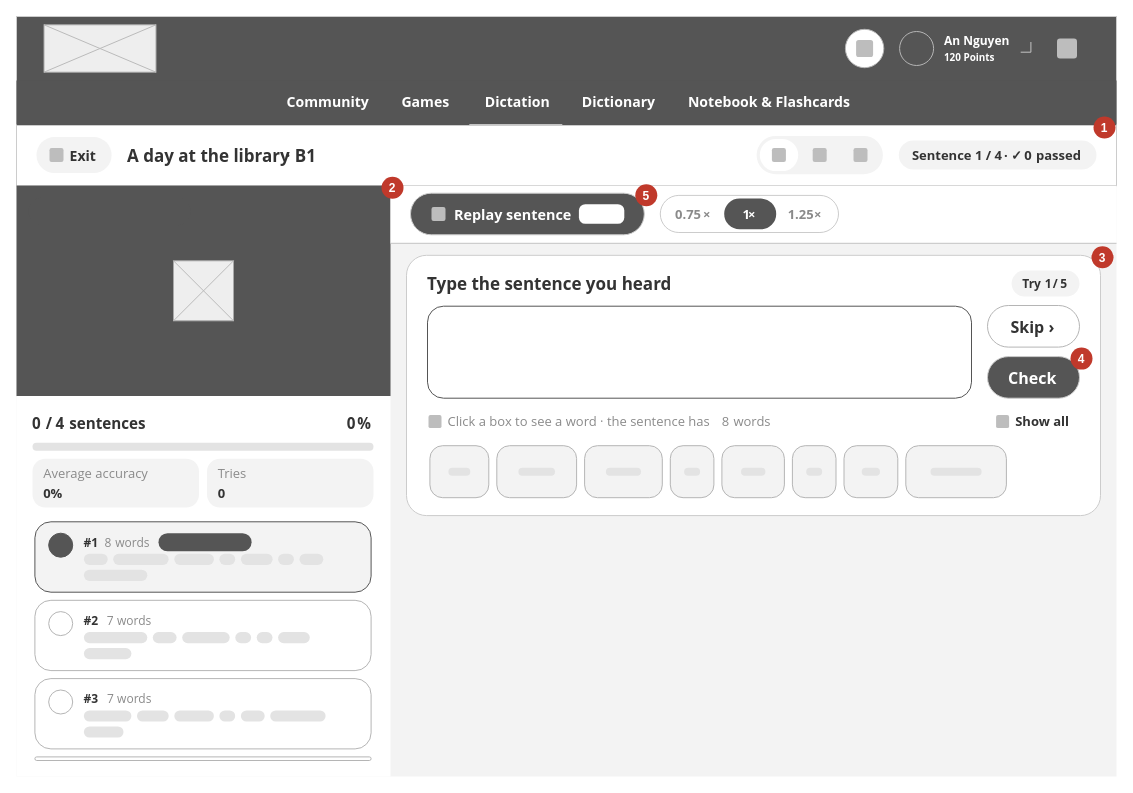
The diagram is 1133 pixels wide and 793 high, and some of its shapes have lost their labels. The shapes that lost their labels are listed below. From the top down, each one's box as (x1, y1, x2, y2) in pixels, then its label:
(899, 30, 934, 66): AN
(578, 204, 624, 223): Alt+R
(426, 305, 972, 398): The library opens at nine
(158, 533, 251, 551): IN PROGRESS
